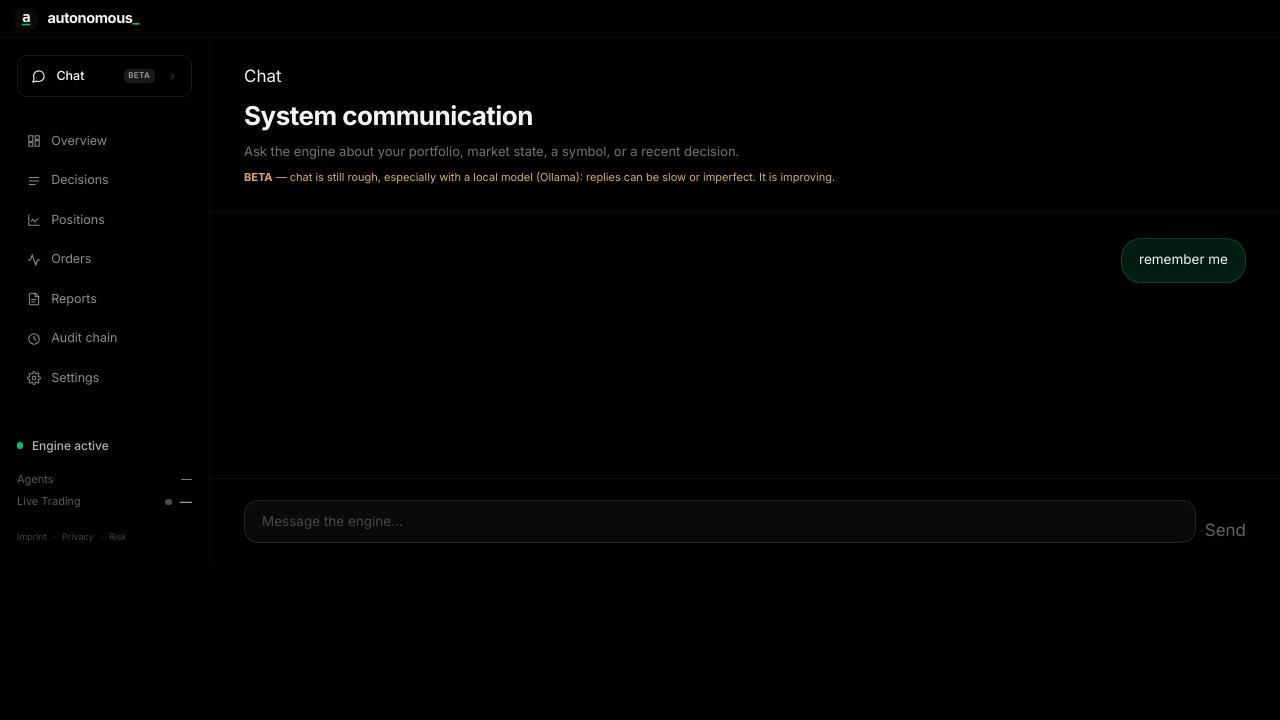
Scenario: console shell › chat transcript survives navigating away and back
Expected: the text "remember me" is shown, [1121,238,1246,283]
Click the button "Reports": (105, 299) [13,280,196,318]
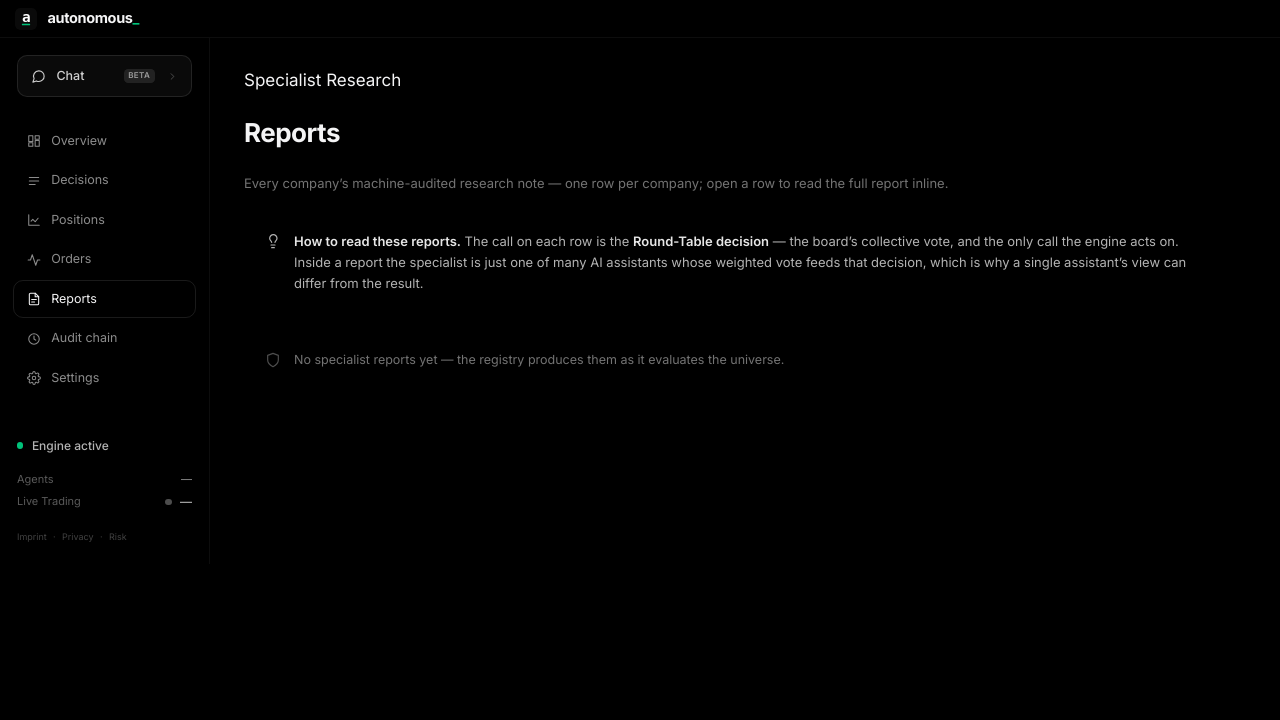
Expected: the text "remember me" is gone
Click the button "Chat BETA": (104, 76) [17,55,192,97]
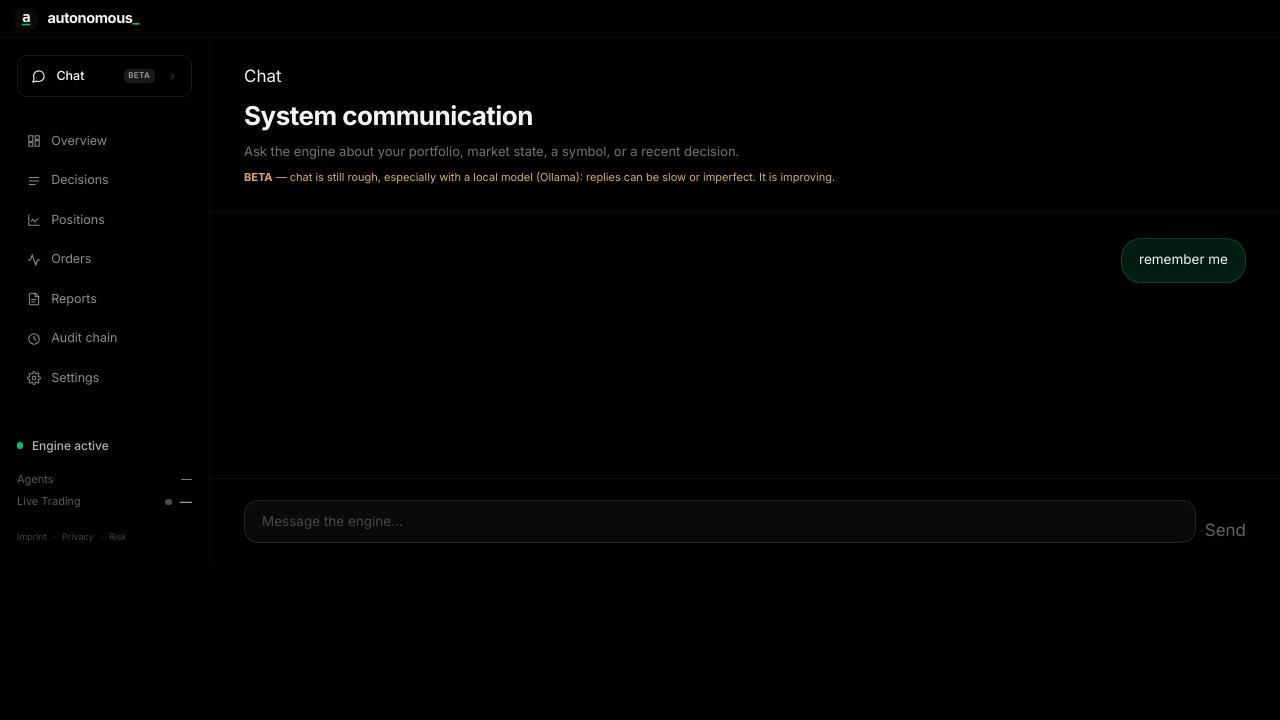
Expected: the text "remember me" is shown, [1121,238,1246,283]
